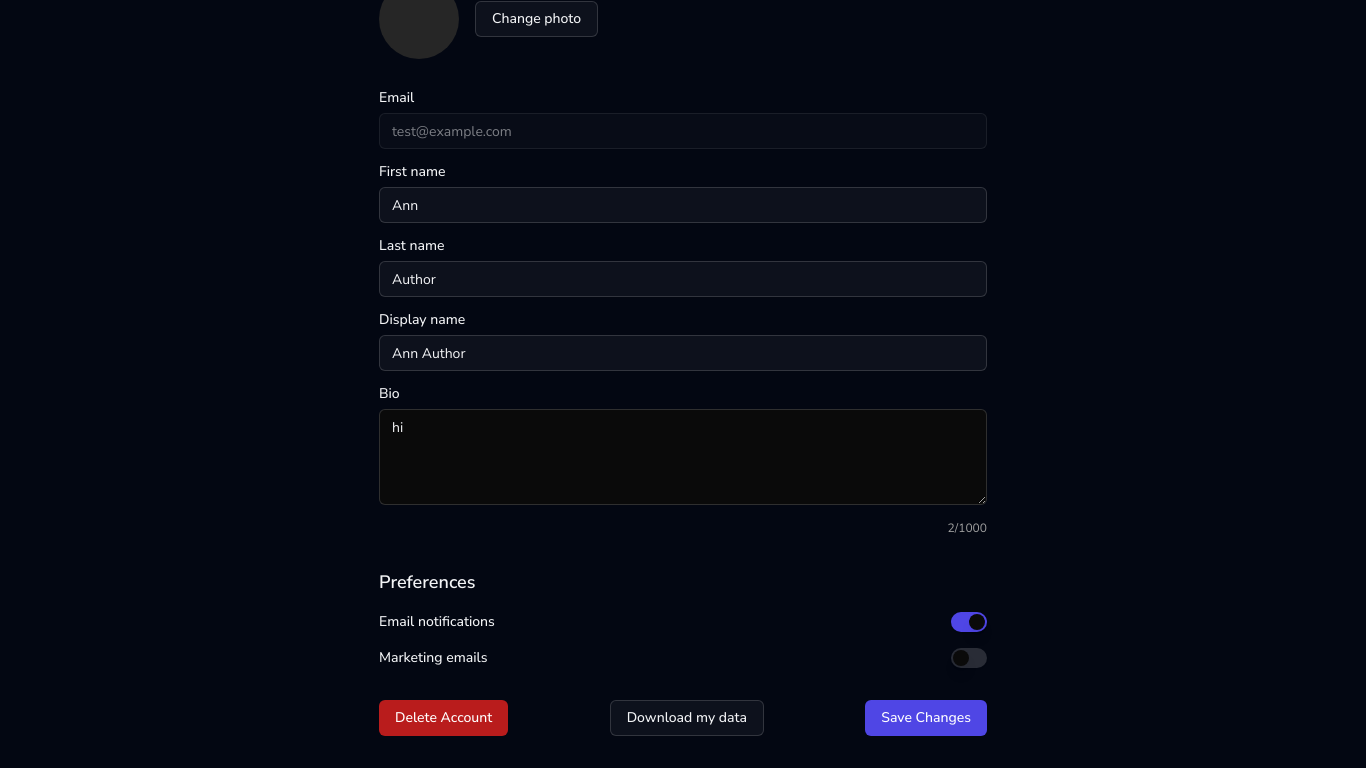
Scenario: ProfilePage account deletion type-to-confirm (#216) › keeps that writing when the delete fails (#855)
(page scrolled)
Check: the button "Save Changes" is enabled, box [865,700,987,736]
Click the button "Delete Account" at (444, 718), box [379,700,508,736]
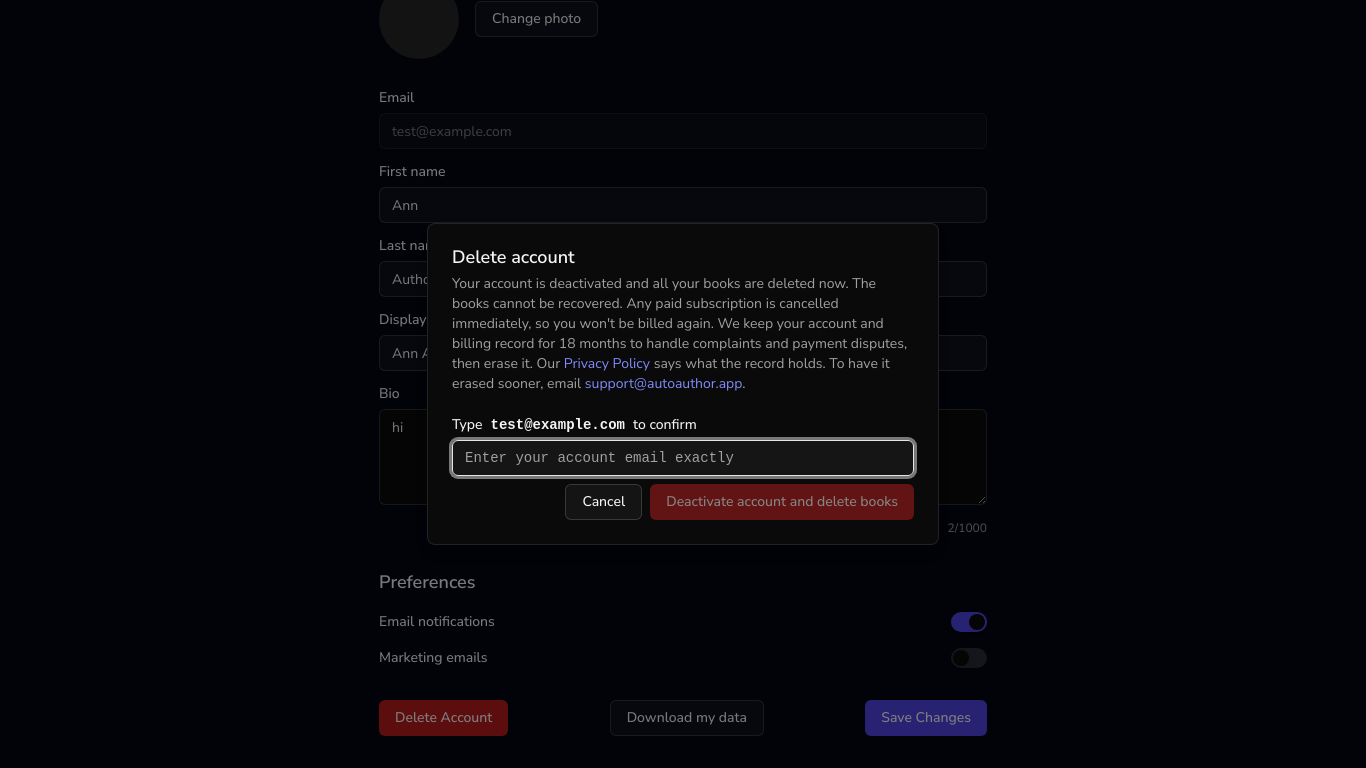
Type "test@example.com" into the field labelled "Type test@example.com to confirm" at (683, 458), box [452,440,914,476]
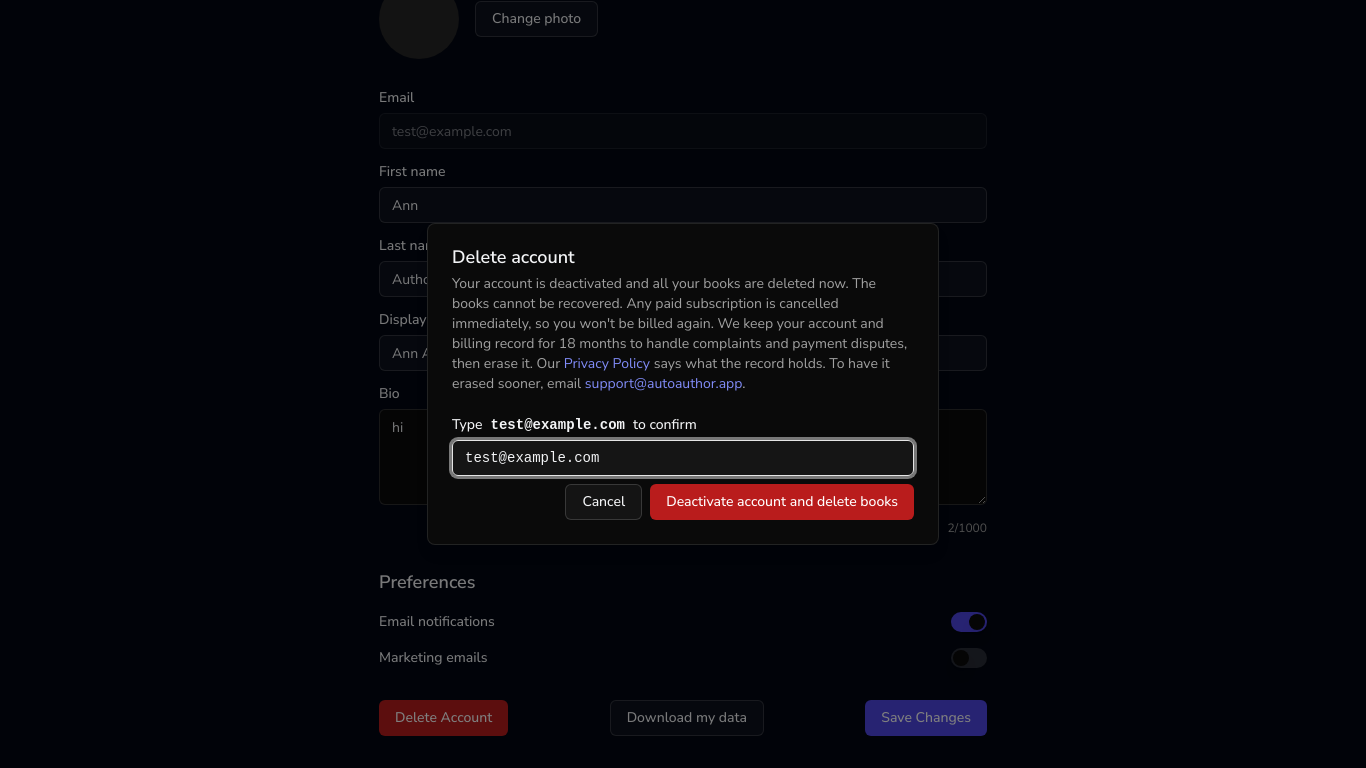
Click the button "Deactivate account and delete books" at (782, 502), box [650,484,914,520]
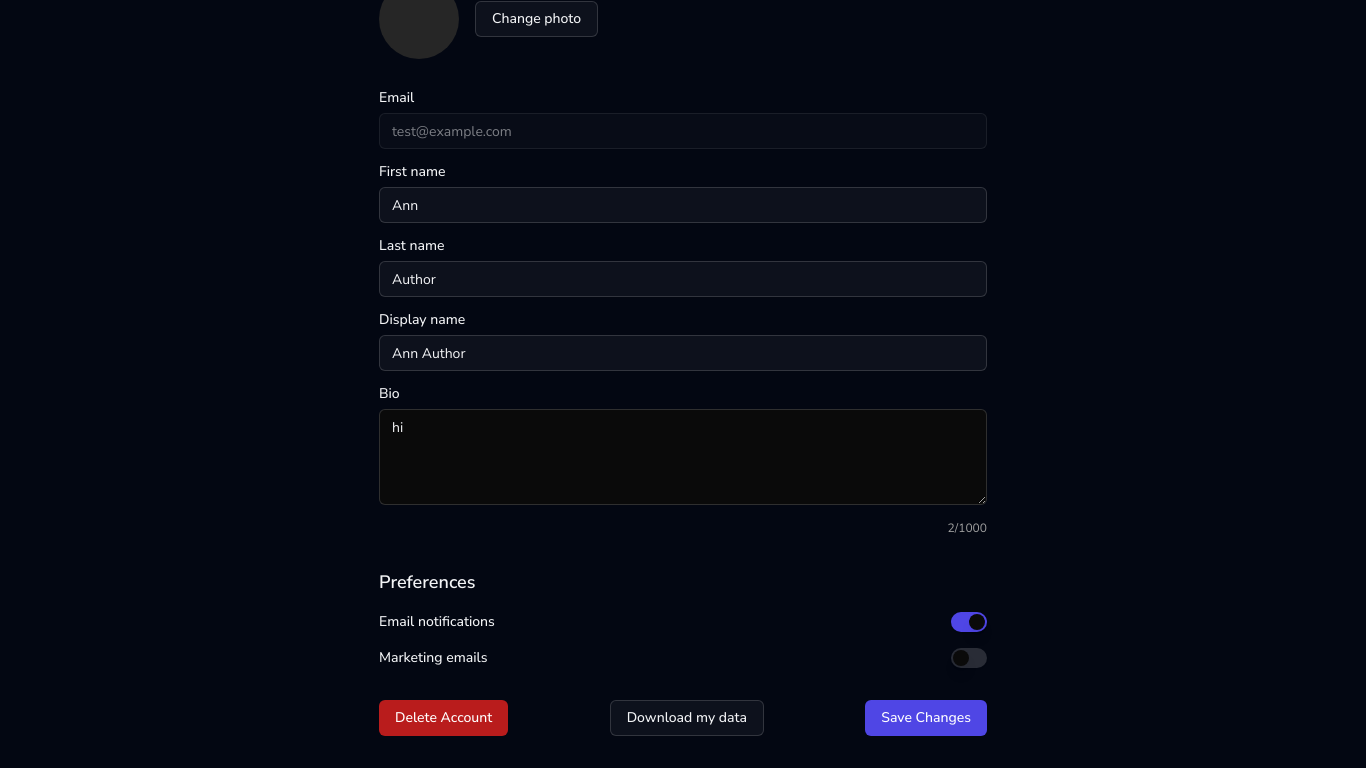
Check: the button "Deactivate account and delete books" is gone
